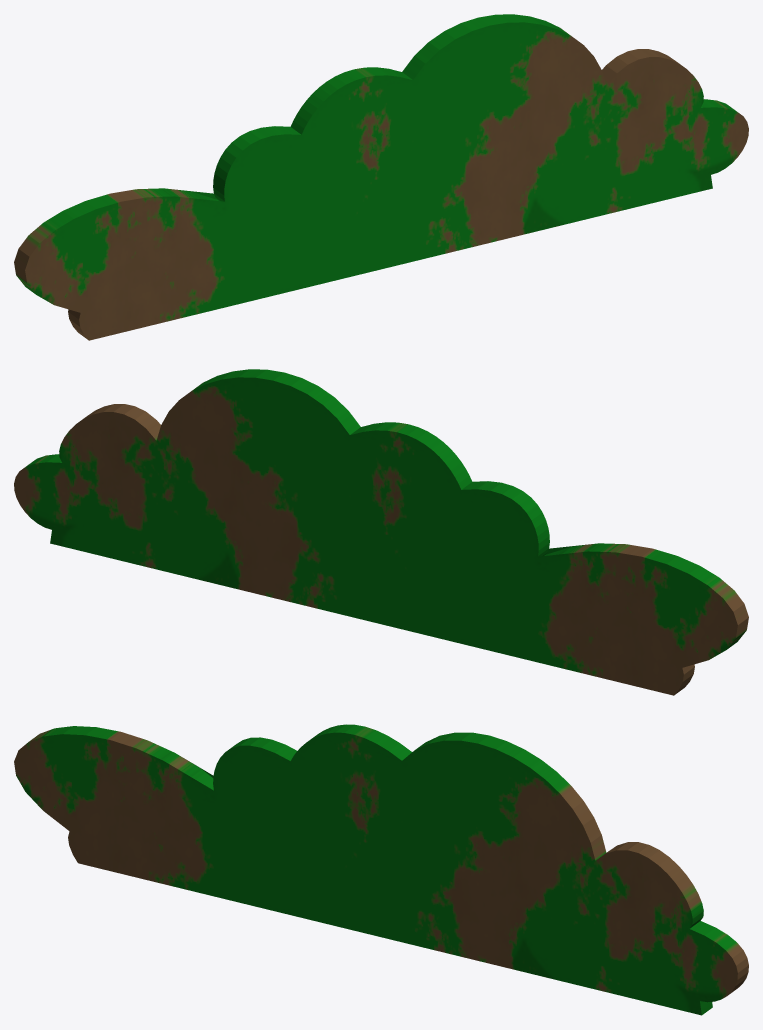
Rendered from Arbusto3Junto.fbx.
3 views of the same model, one above another, from view 1: azimuth 30°, elevation 25°; view 2: azimuth 150°, elevation 25°; view 3: azimuth 330°, elevation 25° (orthographic).
Parts seen in each view (by area): view 1: arbusto 3; view 2: arbusto 3; view 3: arbusto 3.
Boxes of the visible parts, x1,y1,x2,y2 form: arbusto 3: (14, 14, 748, 340); arbusto 3: (14, 369, 748, 695); arbusto 3: (14, 724, 748, 1015).
Bounding box in the file's own units: 669 × 192 × 17.73.
